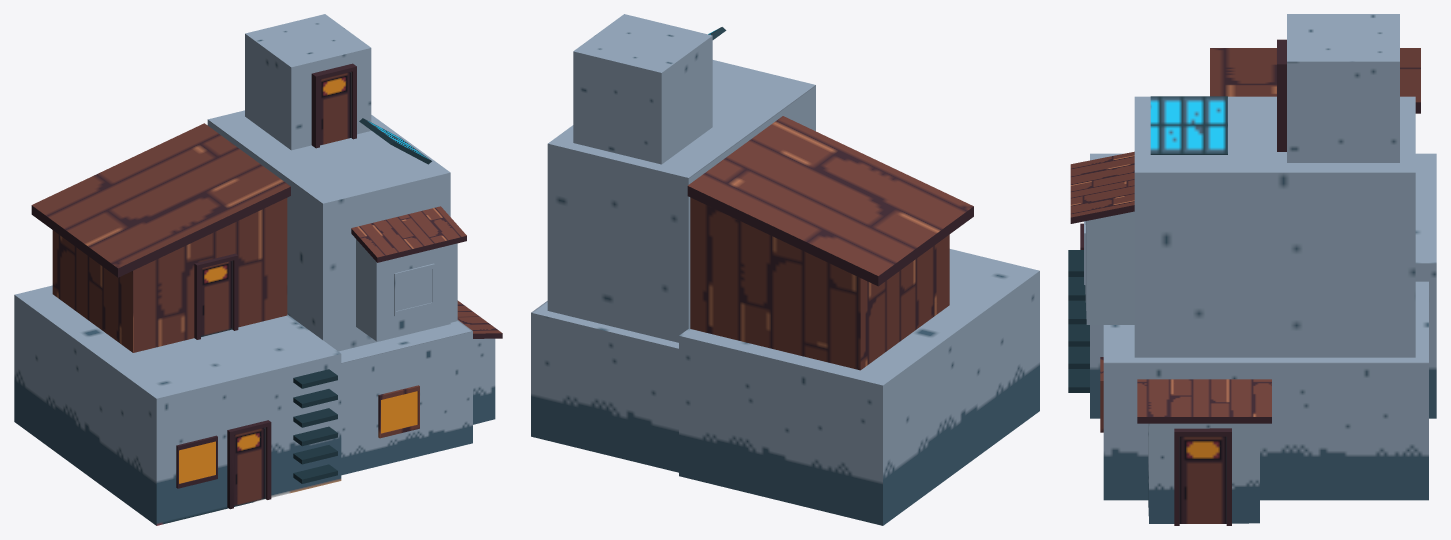
File: Casa6_Erick_2608.fbx
The picture shows the model from 3 angles, left to right: view 1: azimuth 30°, elevation 25°; view 2: azimuth 150°, elevation 25°; view 3: azimuth 270°, elevation 25°; orthographic projection. The views are drawn at different scales.
Parts seen in each view (by area): view 1: Casa6; view 2: Casa6; view 3: Casa6.
Part boxes in pixels (<box>): Casa6: <box>14,14,502,525</box>; Casa6: <box>531,14,1039,525</box>; Casa6: <box>1068,14,1436,525</box>.
Bounding box in the file's own units: 919 × 653 × 827.
